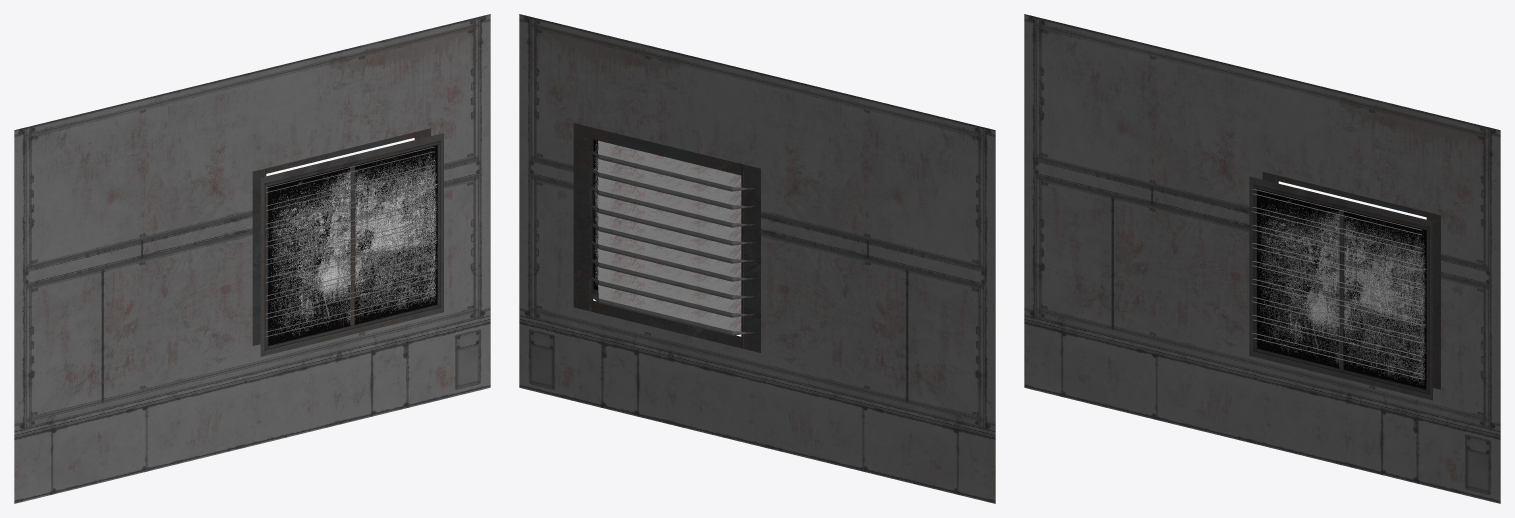
The model's file is ARC0910202.fbx.
The picture shows the model from 3 angles, left to right: view 1: azimuth 30°, elevation 25°; view 2: azimuth 150°, elevation 25°; view 3: azimuth 330°, elevation 25°; orthographic projection.
Visible parts, largest first — view 1: smARC0910202; view 2: smARC0910202; view 3: smARC0910202.
Boxes of the visible parts, x1,y1,x2,y2 form: smARC0910202: [14, 14, 490, 503]; smARC0910202: [519, 14, 995, 503]; smARC0910202: [1024, 14, 1500, 503].
Bounding box in the file's own units: 400 × 300 × 25.24.
Materials: 1 (1 with a texture image).
